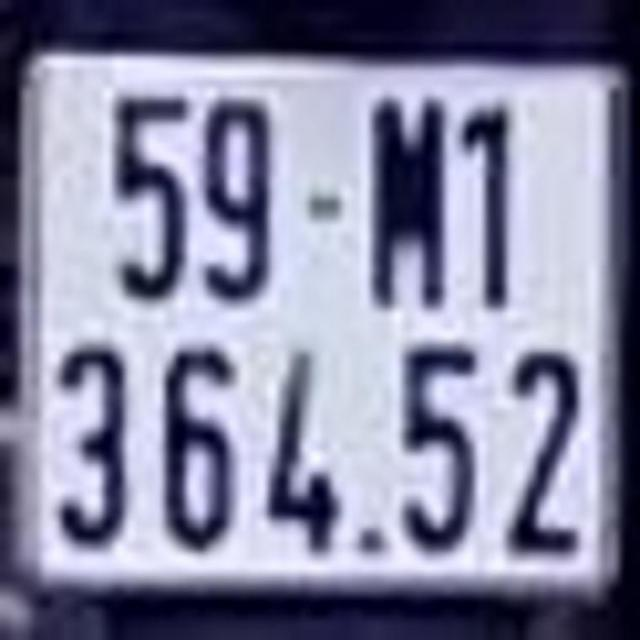1: (460, 104, 514, 306)
2: (508, 346, 582, 552)
3: (55, 342, 129, 544)
4: (272, 349, 340, 552)
5: (113, 97, 186, 289), (401, 348, 469, 551)
6: (166, 344, 232, 559)
9: (203, 98, 273, 297)
M: (373, 96, 448, 303)
